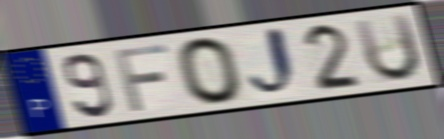2: (301, 21, 365, 95)
9: (63, 52, 115, 119)
F: (111, 42, 171, 114)
J: (246, 24, 303, 102)
O: (174, 35, 246, 107)
U: (351, 10, 424, 85)
